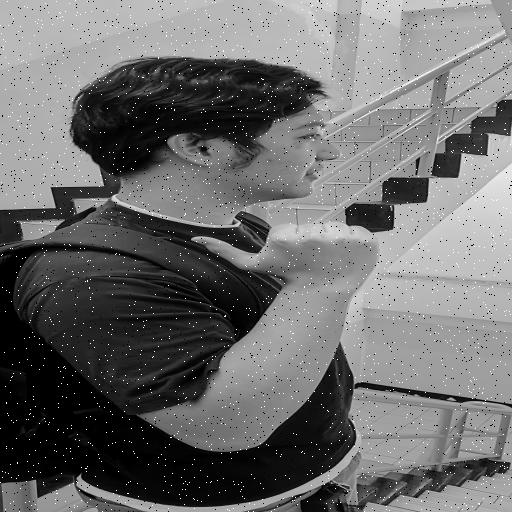back: (177, 208, 415, 291)
